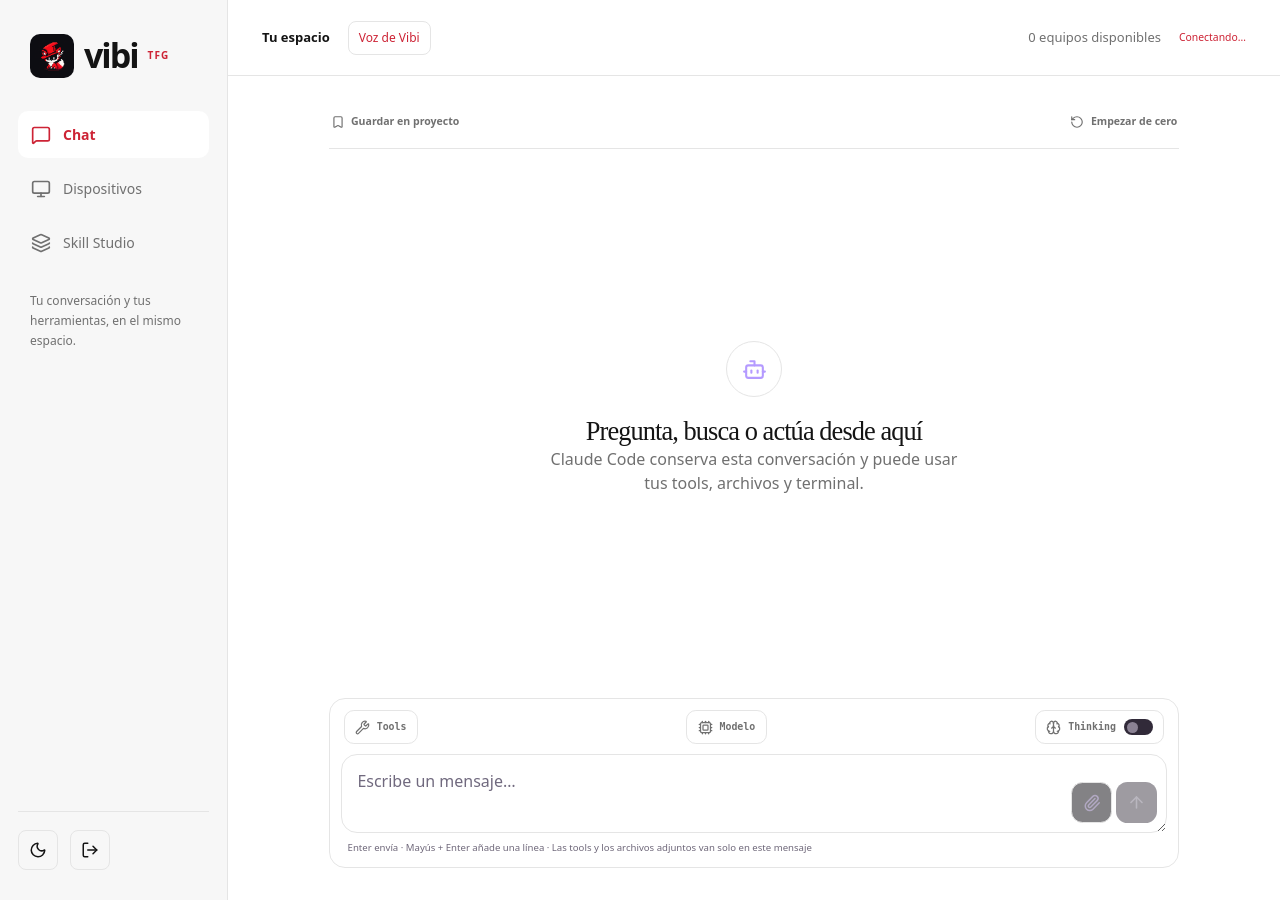
Scenario: vacía la sesión y los datos al salir
Click the button named "Cerrar sesión".
click(90, 850)  # box [70,830,110,870]
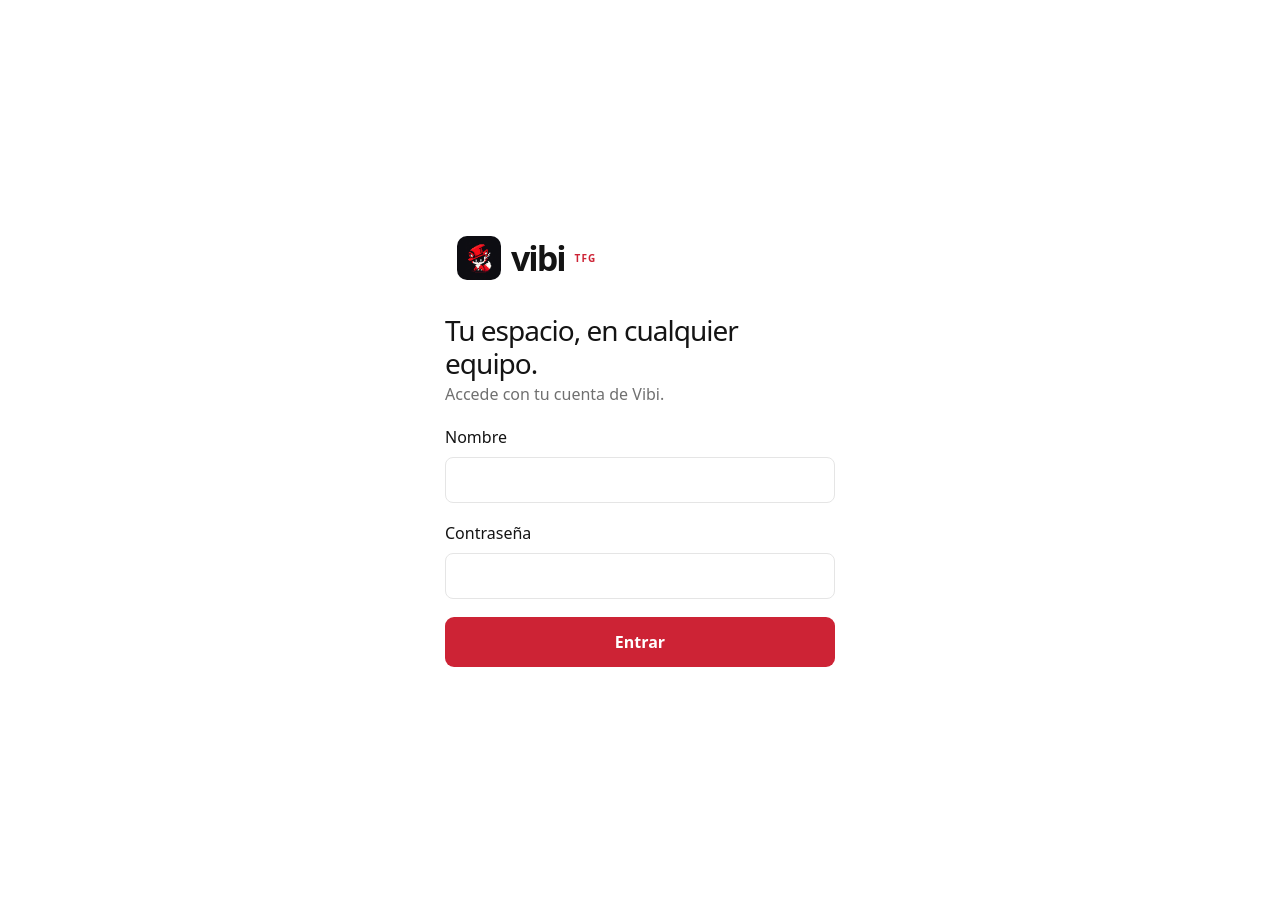
Result: the button "Entrar" is shown at [445,617,835,668]
